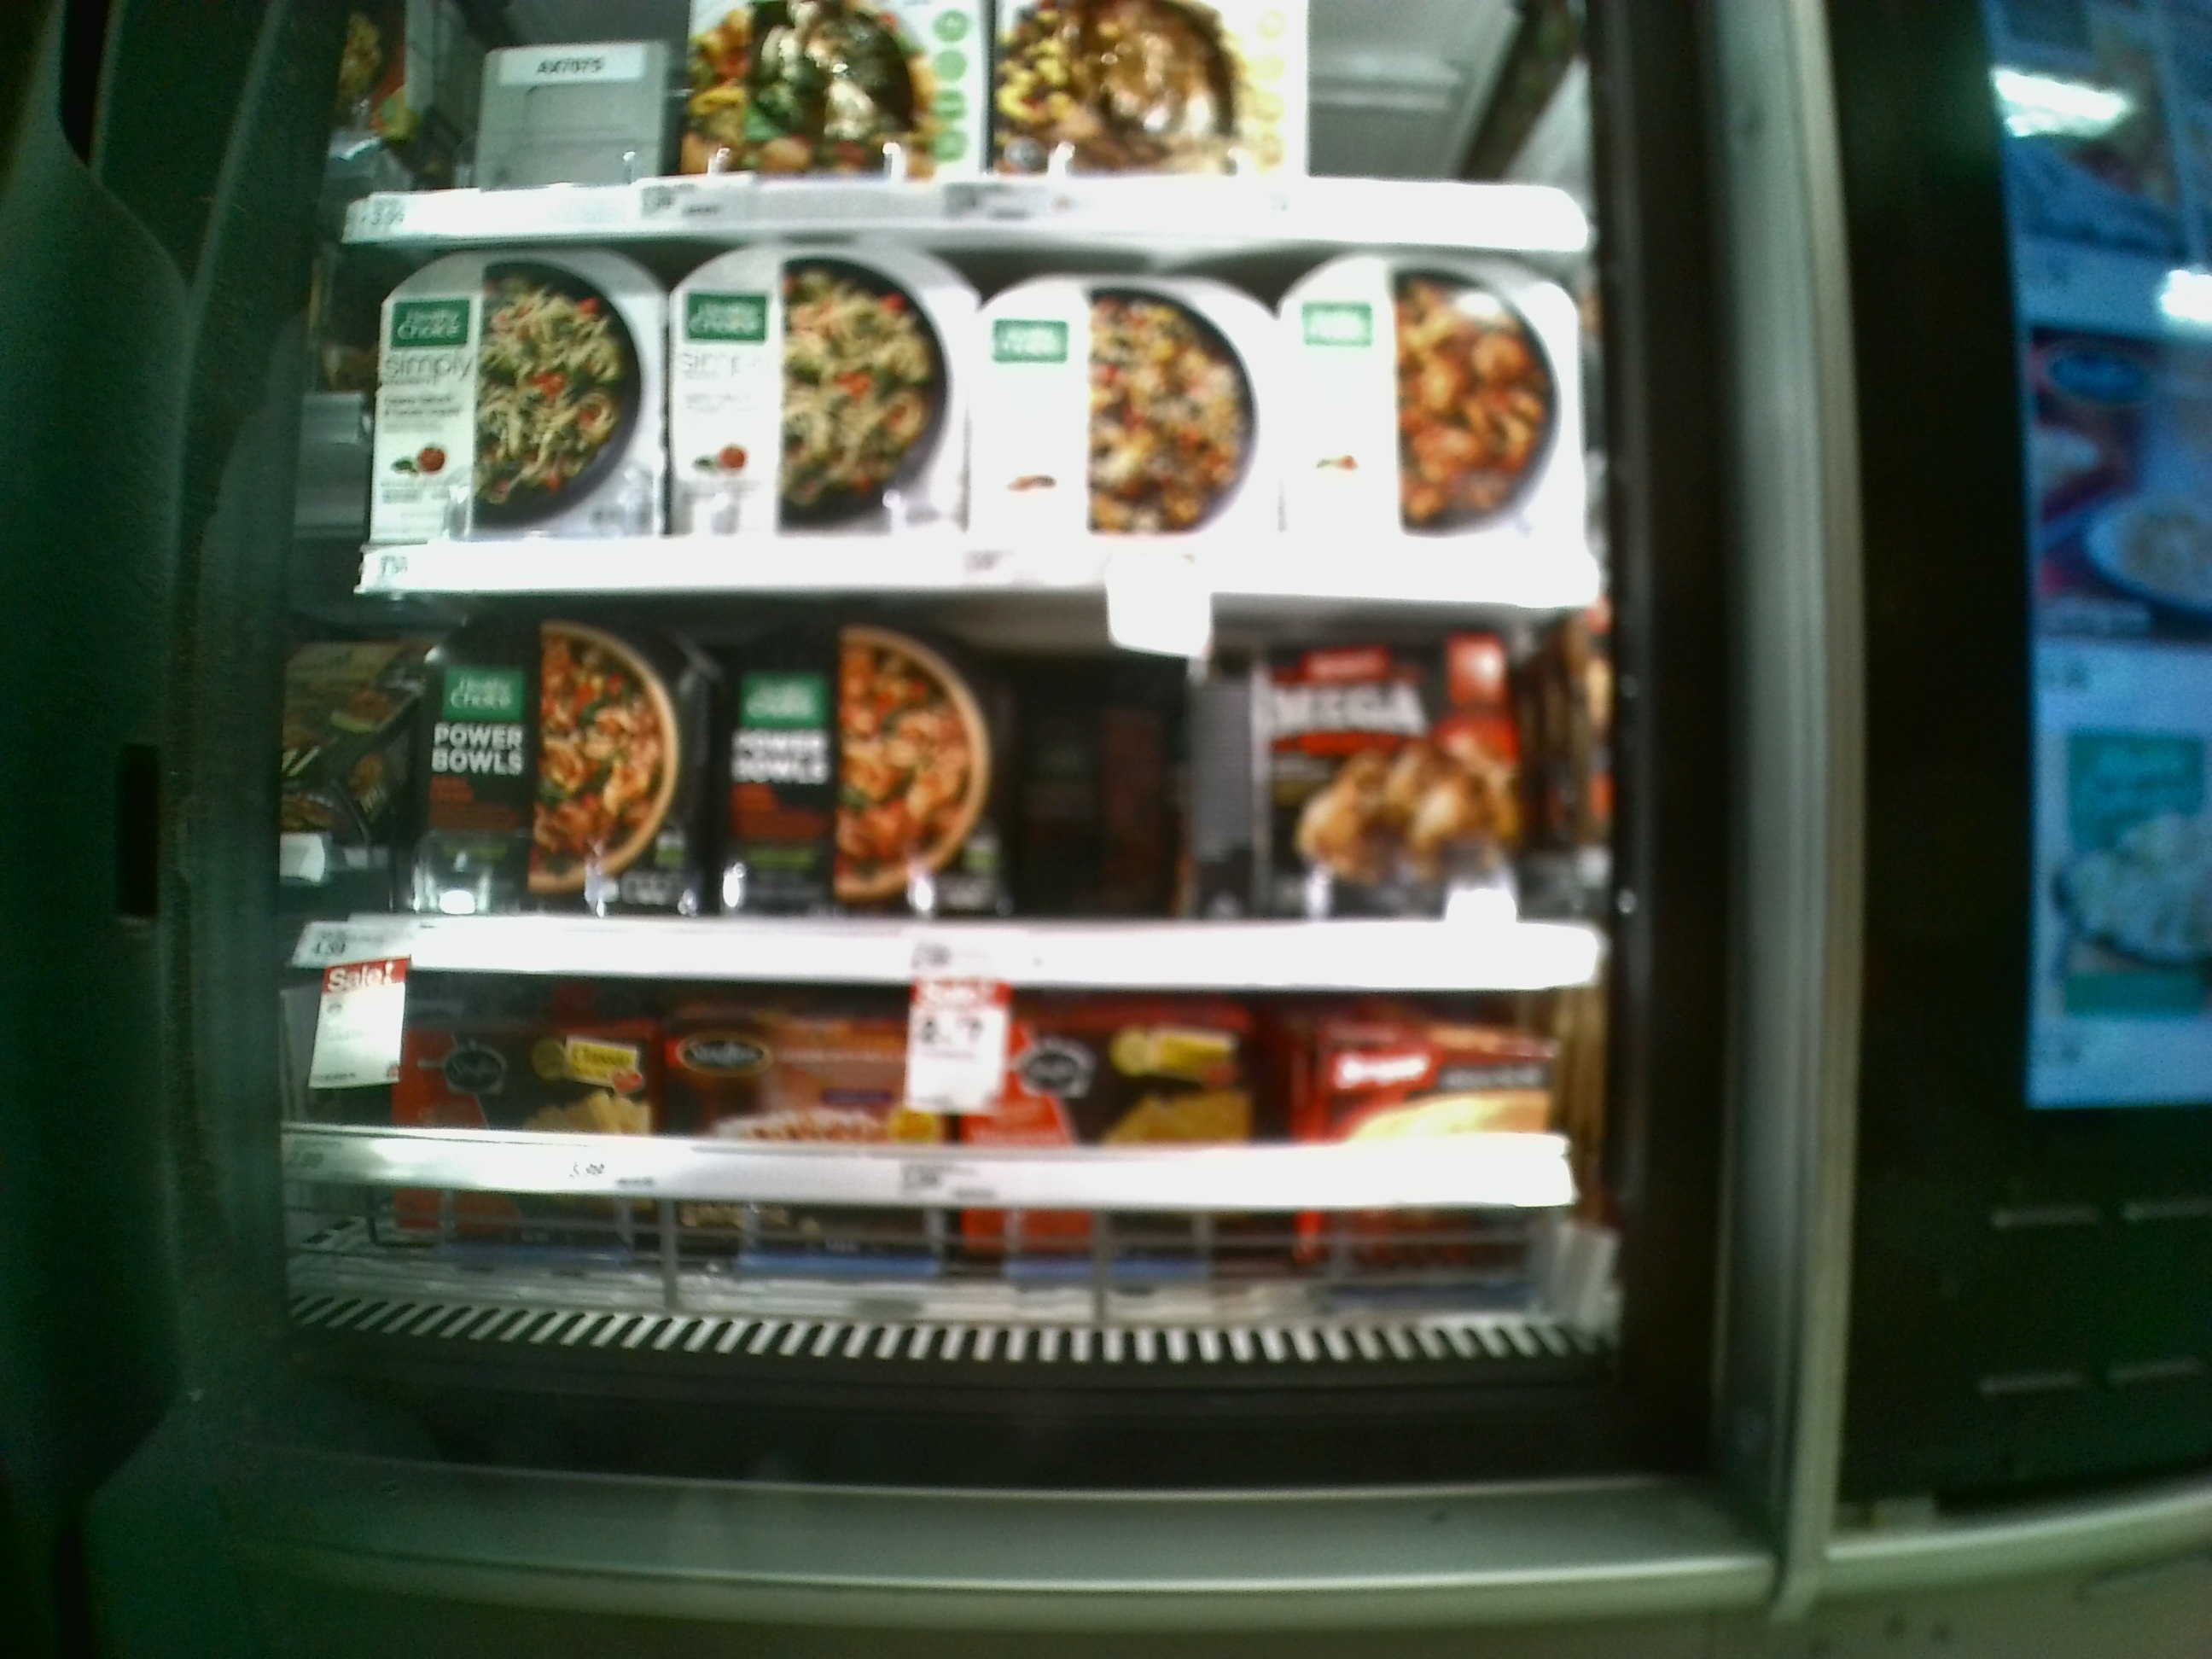pizza: (1256, 260, 1590, 558), (366, 244, 678, 544), (420, 592, 697, 913), (968, 260, 1275, 544), (672, 249, 963, 537), (733, 627, 1008, 911), (1259, 636, 1524, 903), (685, 0, 1003, 176), (1008, 0, 1301, 171)
